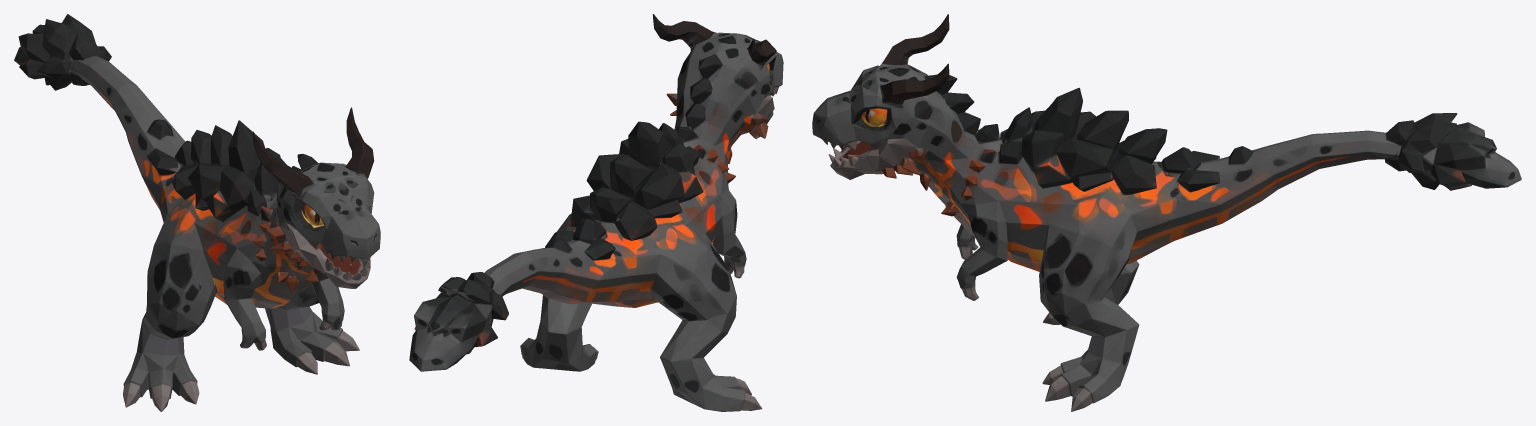
The model's file is meshy_1793054413554.glb.
3 views of the same model, side by side, from view 1: azimuth 30°, elevation 25°; view 2: azimuth 150°, elevation 25°; view 3: azimuth 270°, elevation 25° (orthographic). The views are drawn at different scales.
Bounding box in the file's own units: 0.7497 × 0.9315 × 1.9.
1 material, 1 textured.
